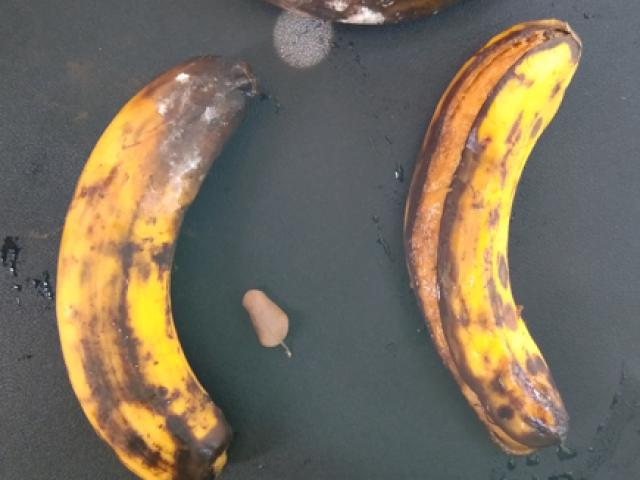rotten: (374, 16, 613, 479), (37, 44, 258, 473)
